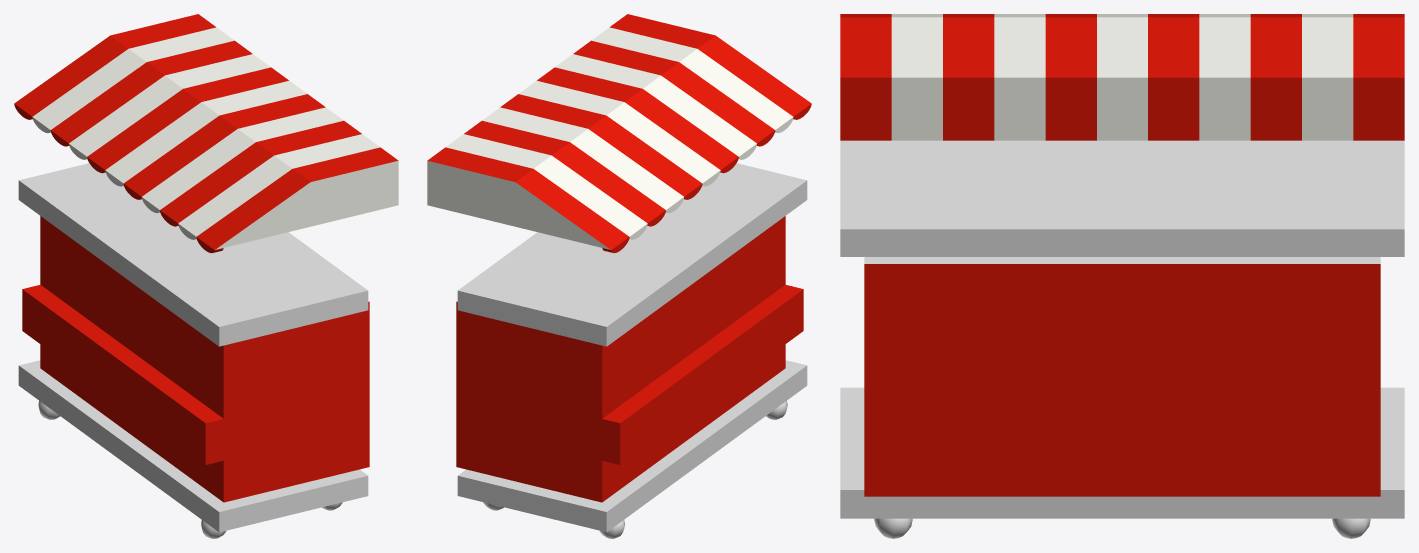
The model's file is Carro de comida.fbx.
The picture shows the model from 3 angles, left to right: view 1: azimuth 30°, elevation 25°; view 2: azimuth 150°, elevation 25°; view 3: azimuth 270°, elevation 25°; orthographic projection. The views are drawn at different scales.
Parts seen in each view (by area): view 1: body, roof, wheel_small.002; view 2: body, roof, wheel_small.002; view 3: body, roof, wheel_small.
Boxes of the visible parts, x1,y1,x2,y2 form: body: (18, 163, 369, 532); roof: (14, 14, 398, 253); wheel_small.002: (38, 401, 226, 538); body: (456, 163, 807, 532); roof: (427, 14, 811, 253); wheel_small.002: (599, 401, 787, 538); body: (840, 140, 1404, 518); roof: (840, 14, 1404, 140); wheel_small: (874, 518, 1370, 538).
Size of the model in its own units: 167 by 303 by 314.
